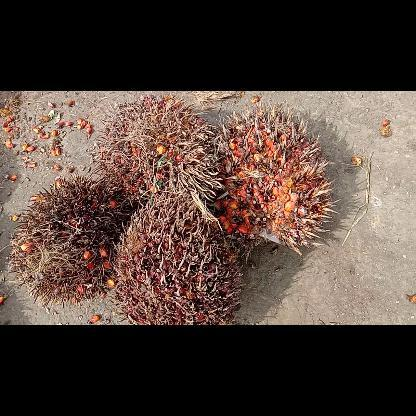Terlalu masak: (215, 102, 339, 254), (90, 92, 222, 230), (111, 190, 243, 324), (7, 171, 128, 307)
